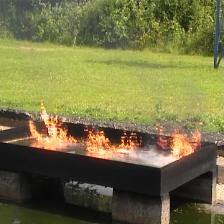fire: (29, 100, 77, 146), (84, 125, 144, 154), (155, 124, 201, 160)
